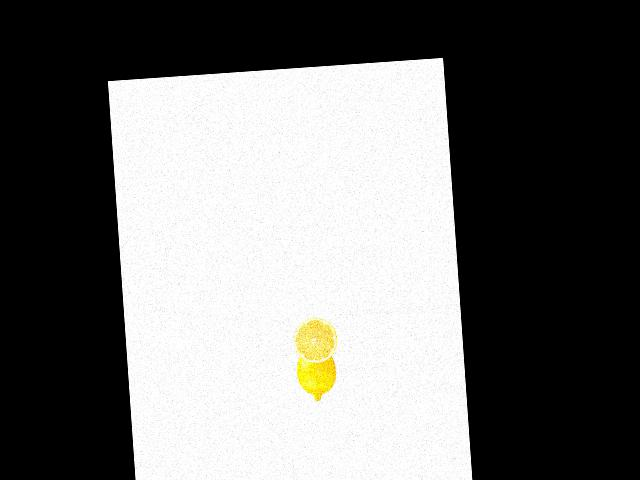lemon: (293, 347, 344, 402)
